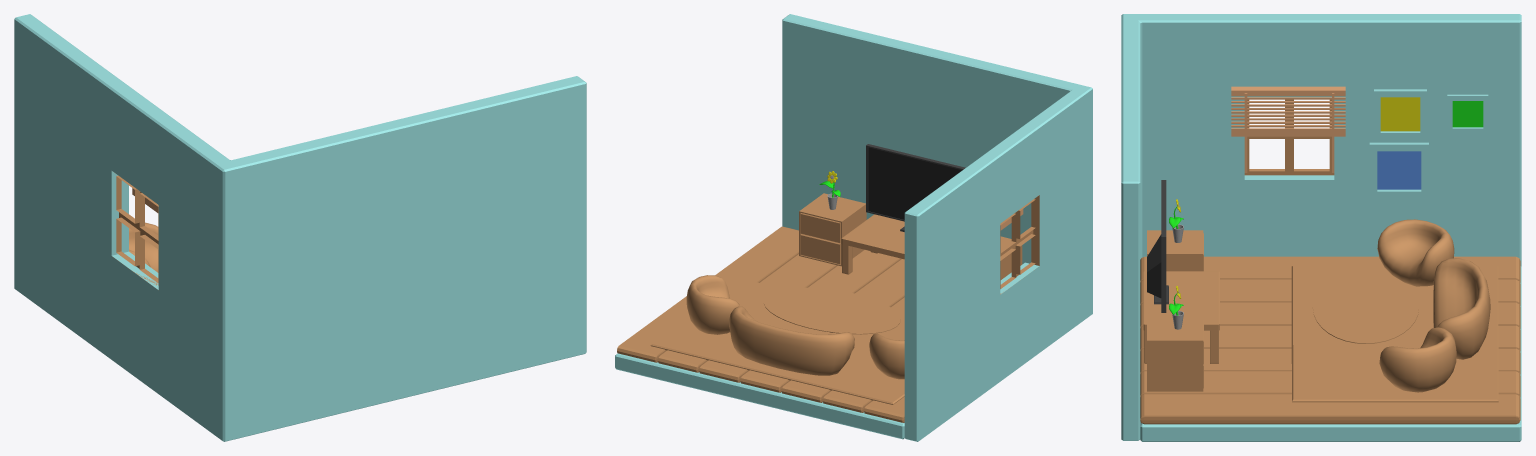
Rendered from room.fbx.
3 views of the same model, side by side, from view 1: azimuth 30°, elevation 25°; view 2: azimuth 150°, elevation 25°; view 3: azimuth 270°, elevation 25° (orthographic). The views are drawn at different scales.
Visible parts, largest first — view 1: Wall.001, Cube.002, Cube.008; view 2: Wall.001, Wood floor 1.002, Plane.001, Cube.001, Floor.001, Circle, Cube.006, Cube.019, Cube, Table 1.002, Cube.002, Cube.008; view 3: Wall.001, Wood floor 1.002, Plane.001, Floor.001, Circle, Cube.007, Cube.001, Cube.019, Cube.008, Cube, Table 1.002, Cube.023 (+8 smaller).
Part boxes in pixels (<box>): Wall.001: <box>14,14,586,441</box>; Cube.002: <box>113,173,158,285</box>; Cube.008: <box>129,222,158,272</box>; Wall.001: <box>782,14,1092,441</box>; Wood floor 1.002: <box>617,226,904,422</box>; Plane.001: <box>650,278,904,404</box>; Cube.001: <box>729,306,854,375</box>; Floor.001: <box>615,353,904,439</box>; Circle: <box>763,287,900,334</box>; Cube.006: <box>866,144,965,231</box>; Cube.019: <box>799,193,866,266</box>; Cube: <box>686,275,740,334</box>; Table 1.002: <box>841,214,904,274</box>; Cube.002: <box>1000,195,1039,294</box>; Cube.008: <box>869,333,904,379</box>; Wall.001: <box>1121,14,1521,440</box>; Wood floor 1.002: <box>1140,256,1520,424</box>; Plane.001: <box>1291,265,1498,402</box>; Floor.001: <box>1140,266,1521,441</box>; Circle: <box>1312,271,1418,343</box>; Cube.007: <box>1231,86,1345,172</box>; Cube.001: <box>1433,258,1490,359</box>; Cube.019: <box>1147,316,1203,391</box>; Cube.008: <box>1377,219,1454,286</box>; Cube: <box>1379,327,1456,392</box>; Table 1.002: <box>1143,271,1219,363</box>; Cube.023: <box>1369,142,1428,198</box>.
Size of the model in its own units: 134 by 96.06 by 134.
